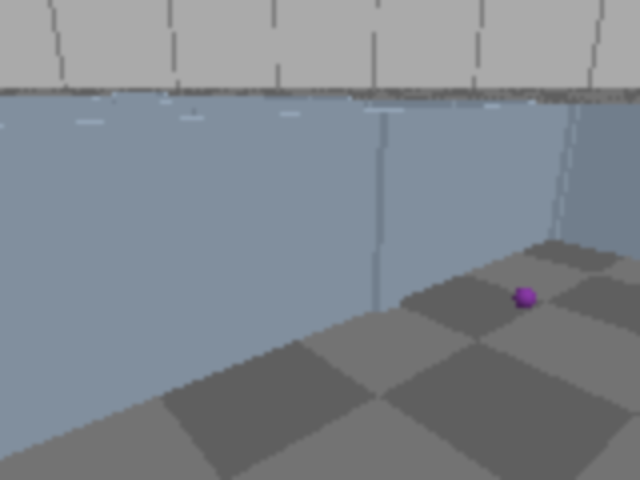puck: (509, 285, 541, 312)
